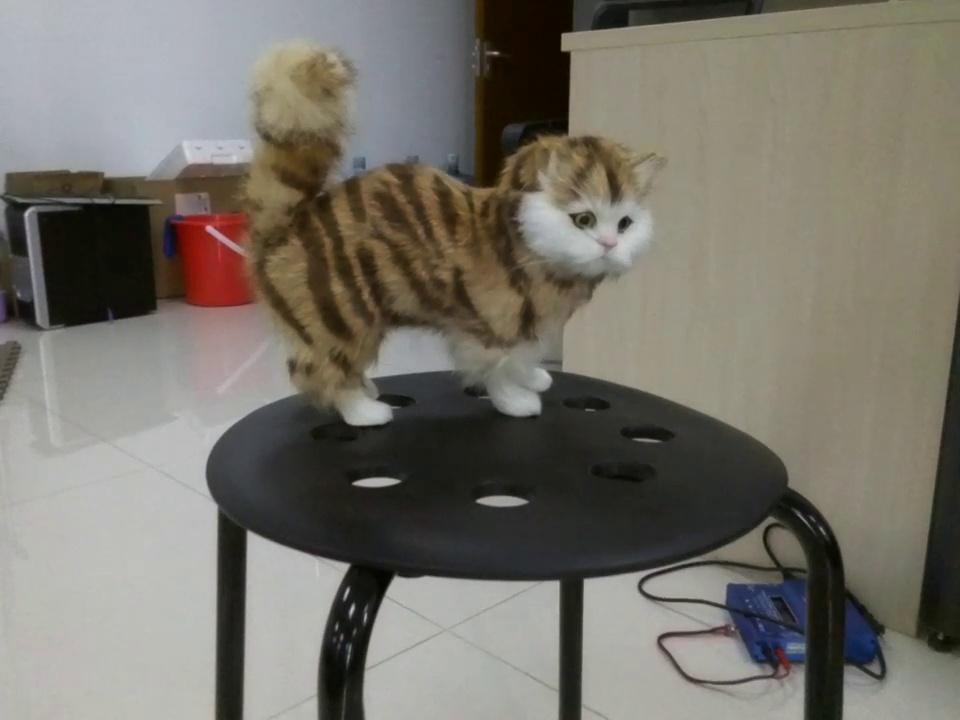cat: (218, 38, 665, 425)
